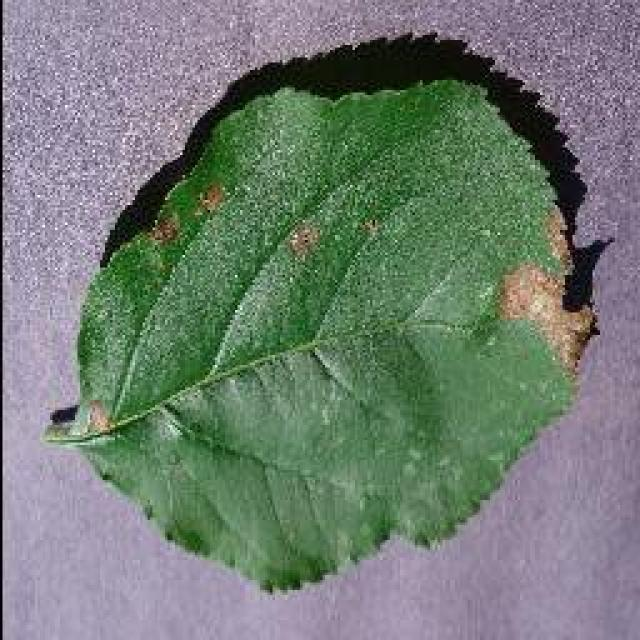apple black rot: (50, 28, 610, 592)
